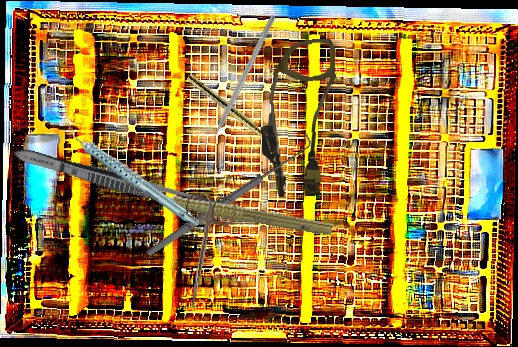Cannula: (258, 38, 340, 198)
Chopper: (198, 10, 277, 152)
Dressing Forceps: (11, 143, 221, 218)
Handpiece: (63, 99, 202, 251), (137, 182, 335, 239), (185, 73, 291, 159)
Hook Surgical: (138, 130, 319, 262)
Iris Scissors: (170, 191, 238, 312)
